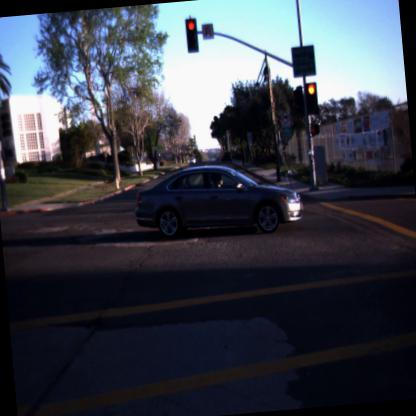trafficlight: (183, 17, 199, 53), (308, 84, 322, 116)
